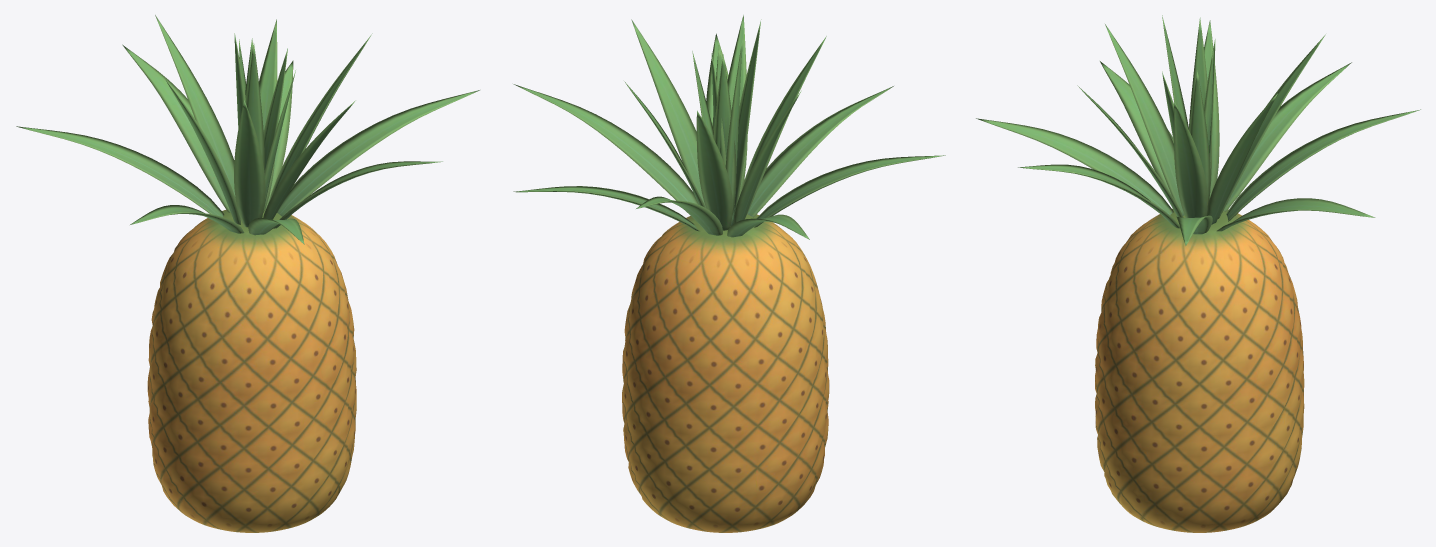
File: pineapple.glb
3 renders of one model, left to right at view 1: azimuth 30°, elevation 25°; view 2: azimuth 150°, elevation 25°; view 3: azimuth 270°, elevation 25°, orthographic.
Visible parts, largest first — view 1: pineapple_body; view 2: pineapple_body; view 3: pineapple_body.
Boxes of the visible parts, x1,y1,x2,y2 form: pineapple_body: (16, 15, 479, 532); pineapple_body: (513, 15, 945, 532); pineapple_body: (976, 15, 1420, 532).
Bounding box in the file's own units: 0.2491 × 0.2922 × 0.243.
Materials: 1 (1 with a texture image).
